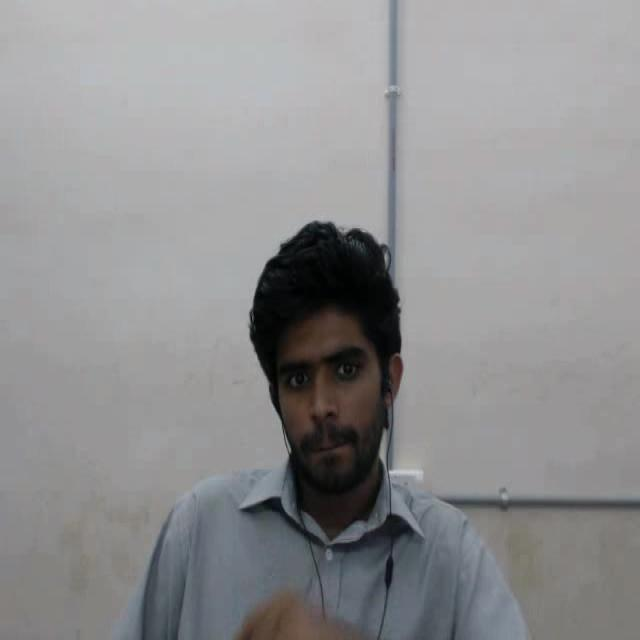Bored: (240, 190, 433, 526)
